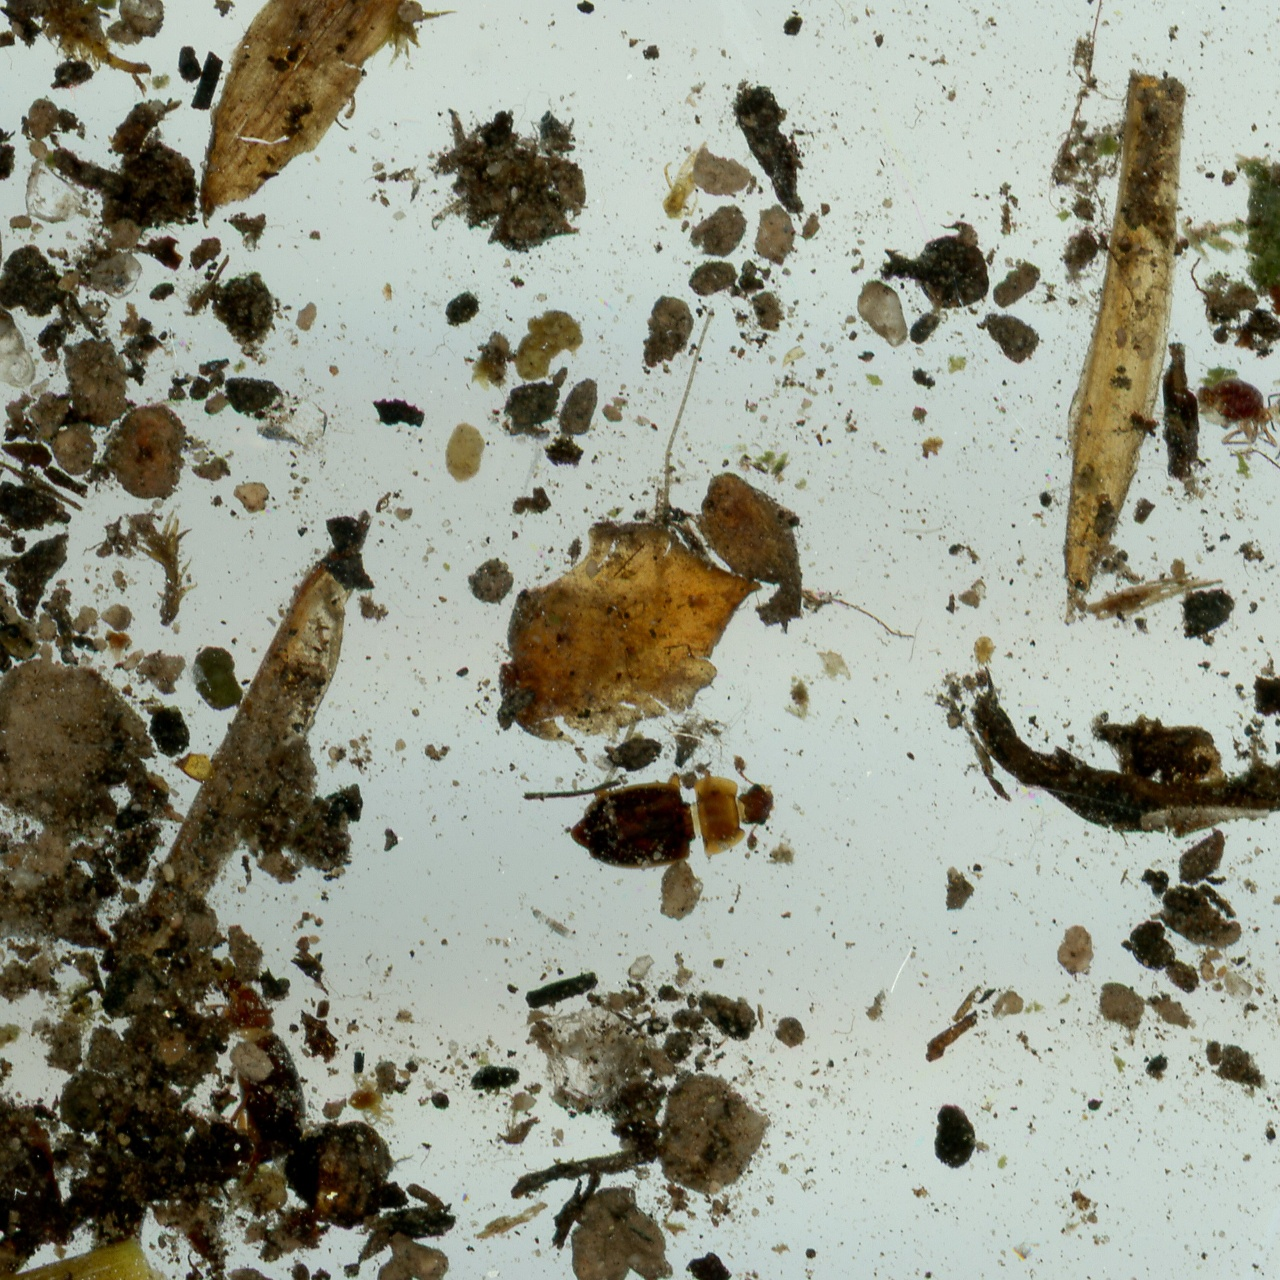arthropod: (177, 947, 331, 1187), (557, 745, 784, 885), (572, 764, 777, 871), (203, 979, 307, 1186), (1193, 375, 1280, 463), (1196, 369, 1280, 449), (0, 281, 48, 406), (1252, 1067, 1280, 1246), (338, 1063, 401, 1141), (660, 138, 710, 223), (661, 141, 709, 222), (522, 901, 583, 949), (347, 1071, 389, 1125), (972, 634, 999, 675), (973, 632, 998, 672)
